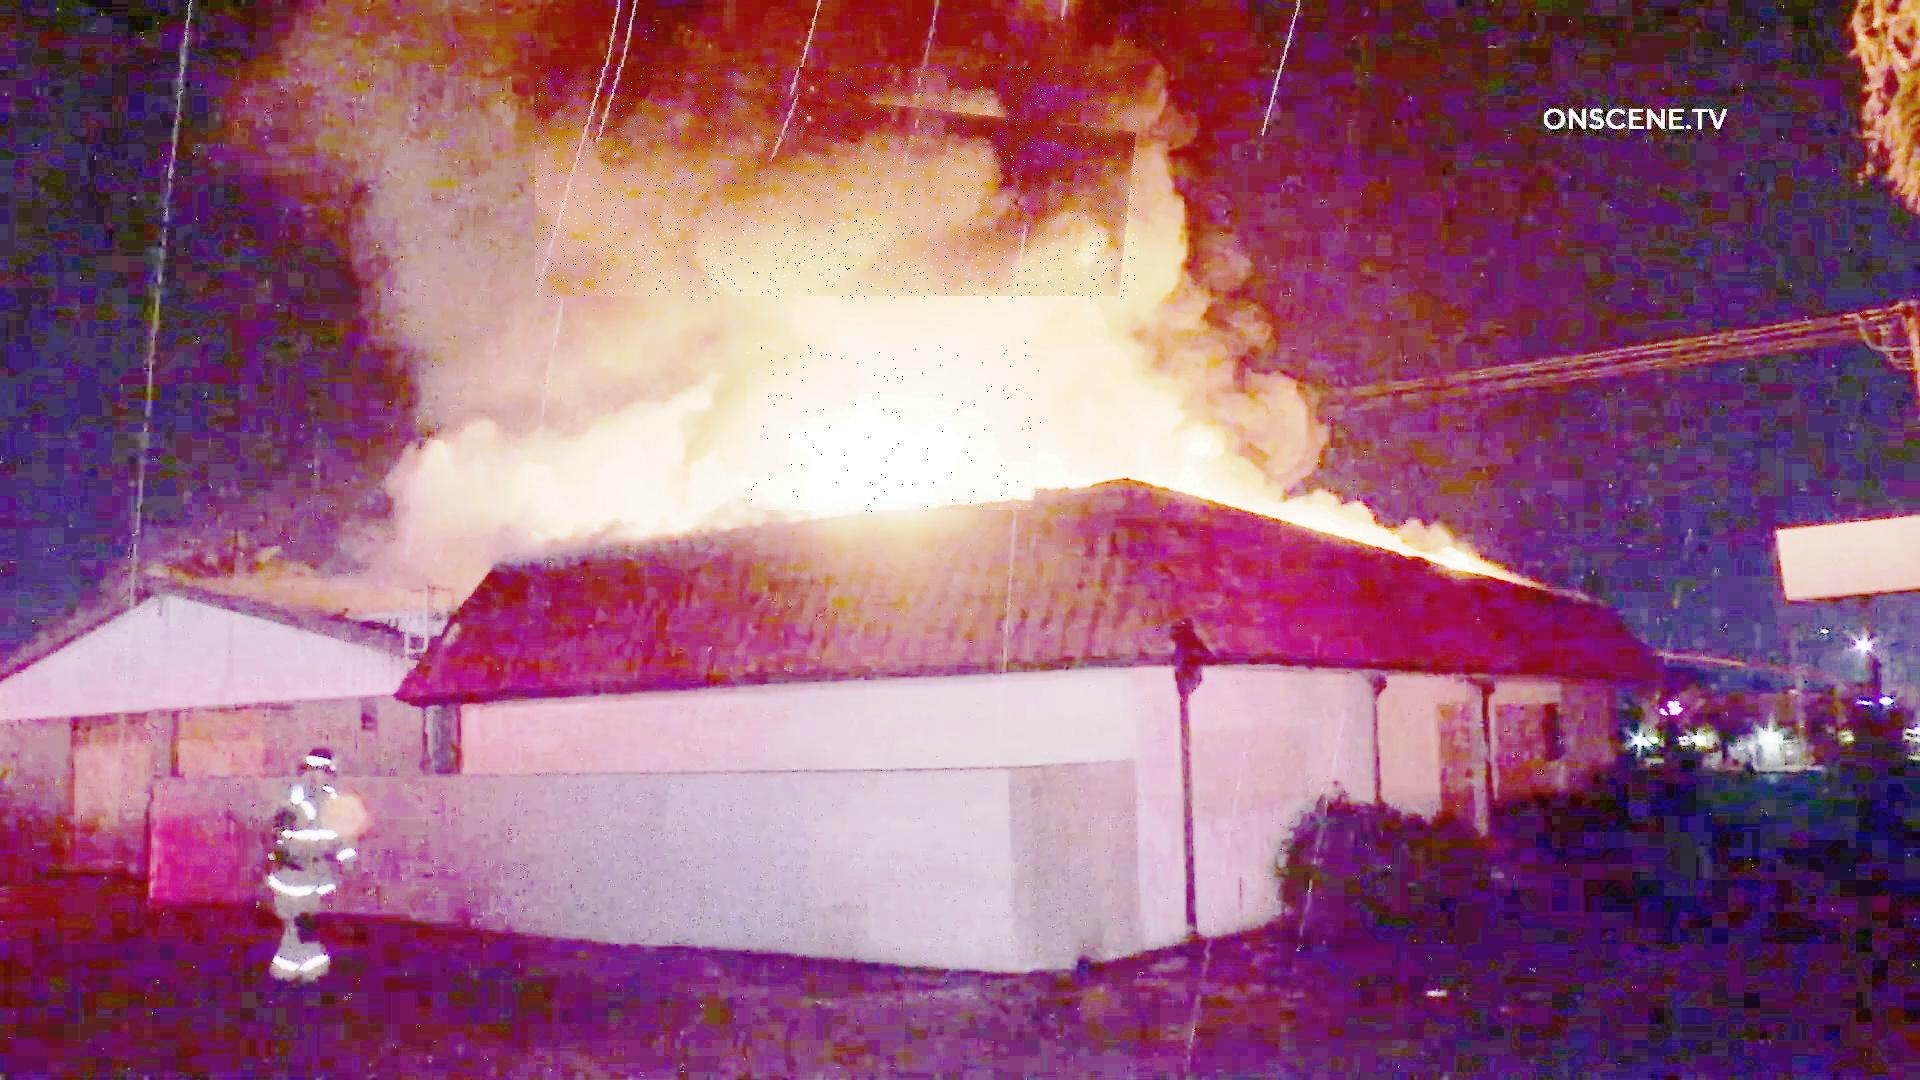fire: (748, 344, 1048, 513)
smoke: (535, 67, 1139, 299)
